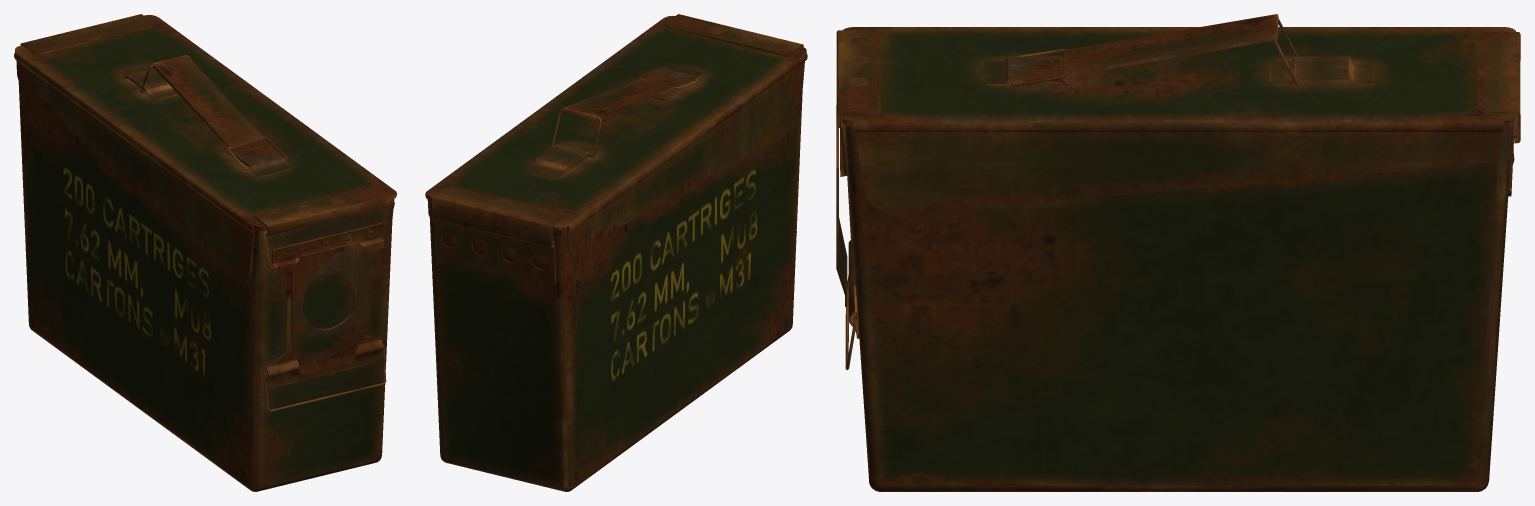
File: ammo_box.glb
3 renders of one model, left to right at view 1: azimuth 30°, elevation 25°; view 2: azimuth 150°, elevation 25°; view 3: azimuth 270°, elevation 25°, orthographic. The views are drawn at different scales.
Parts seen in each view (by area): view 1: ammo_box.001; view 2: ammo_box.001; view 3: ammo_box.001.
Part boxes in pixels (left/top/right/bottom): ammo_box.001: left=14, top=14, right=396, bottom=491; ammo_box.001: left=425, top=14, right=807, bottom=491; ammo_box.001: left=836, top=14, right=1520, bottom=491.
Bounding box in the file's own units: 0.0866 × 0.1775 × 0.2579.
1 material, 1 textured.
